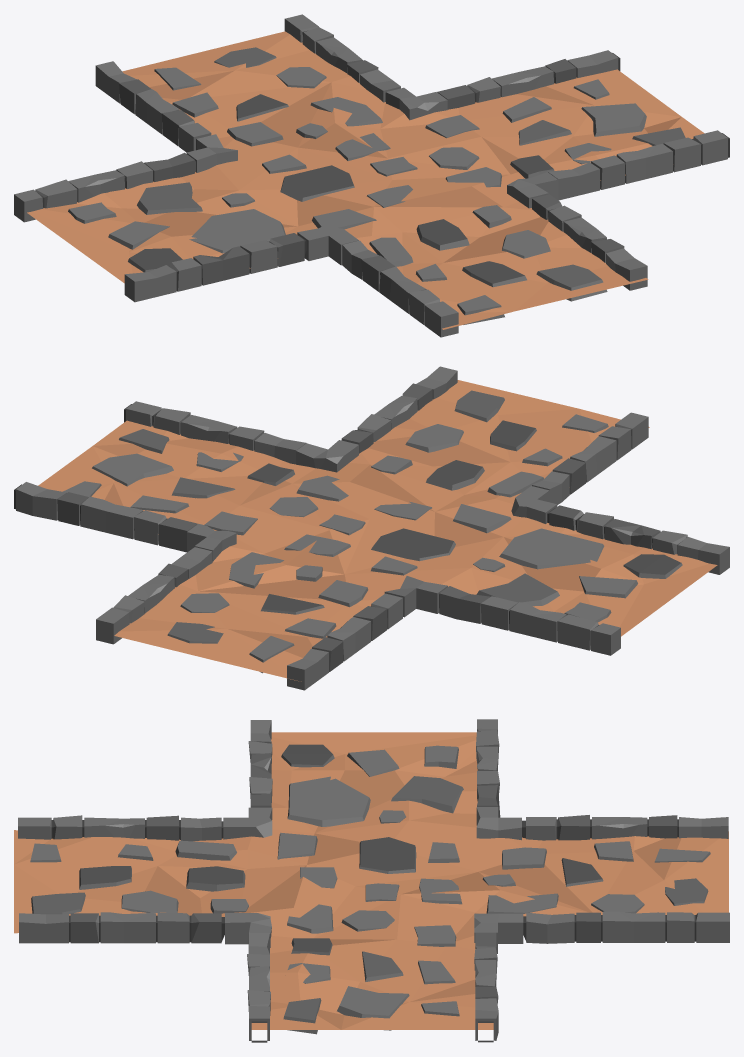
The model's file is road_crossroad_01.fbx.
3 renders of one model, top to bottom at view 1: azimuth 30°, elevation 25°; view 2: azimuth 150°, elevation 25°; view 3: azimuth 270°, elevation 25°, orthographic. The views are drawn at different scales.
Parts seen in each view (by area): view 1: road_crossroad_01; view 2: road_crossroad_01; view 3: road_crossroad_01.
Part boxes in pixels (x1,y1,x2,y2): road_crossroad_01: (14, 14, 729, 337); road_crossroad_01: (14, 366, 729, 690); road_crossroad_01: (14, 719, 729, 1042).
Bounding box in the file's own units: 9.54 × 0.3525 × 9.6.
